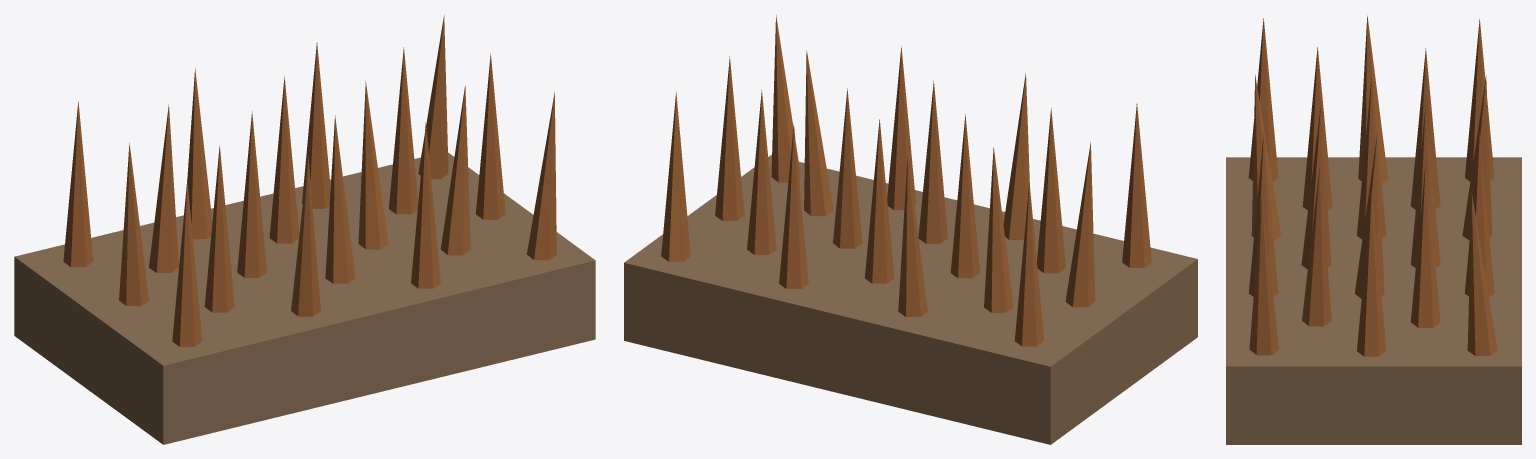
File: Mesh_SpikeBig.glb
The picture shows the model from 3 angles, left to right: view 1: azimuth 30°, elevation 25°; view 2: azimuth 150°, elevation 25°; view 3: azimuth 270°, elevation 25°; orthographic projection.
Parts seen in each view (by area): view 1: Cube.058; view 2: Cube.058; view 3: Cube.058.
Boxes of the visible parts, <box> form: Cube.058: <box>14,15,595,444</box>; Cube.058: <box>624,15,1197,444</box>; Cube.058: <box>1226,15,1521,444</box>.
Size of the model in its own units: 5.93 by 3.17 by 3.54.
